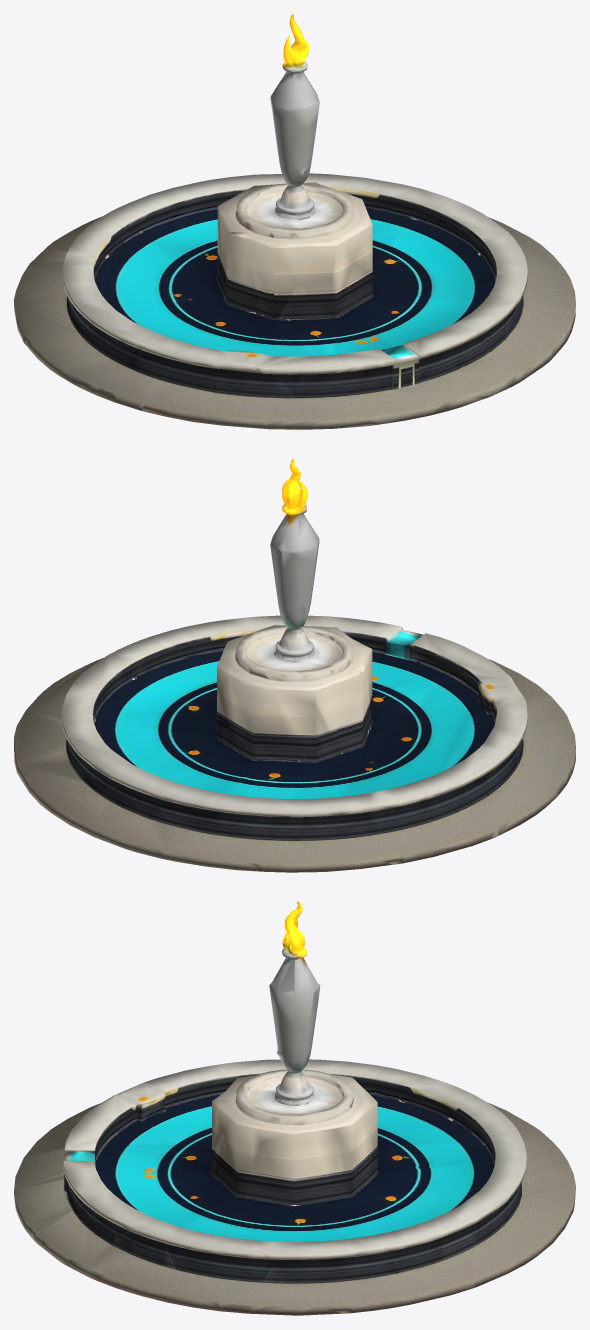
File: championship_fountain.glb
The picture shows the model from 3 angles, top to bottom: view 1: azimuth 30°, elevation 25°; view 2: azimuth 150°, elevation 25°; view 3: azimuth 270°, elevation 25°; orthographic projection.
Size of the model in its own units: 1.9 by 1.1 by 1.9.
1 material, 1 textured.
